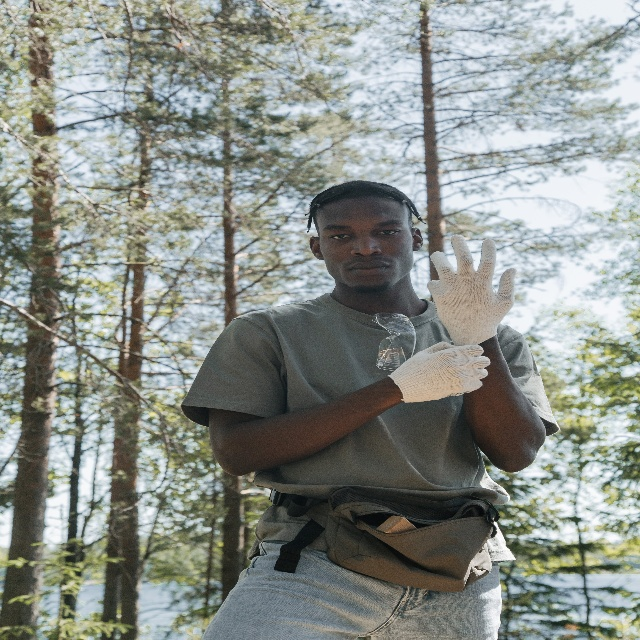Gafas: (372, 310, 416, 371)
Guantes: (427, 234, 518, 346), (390, 340, 491, 403)
